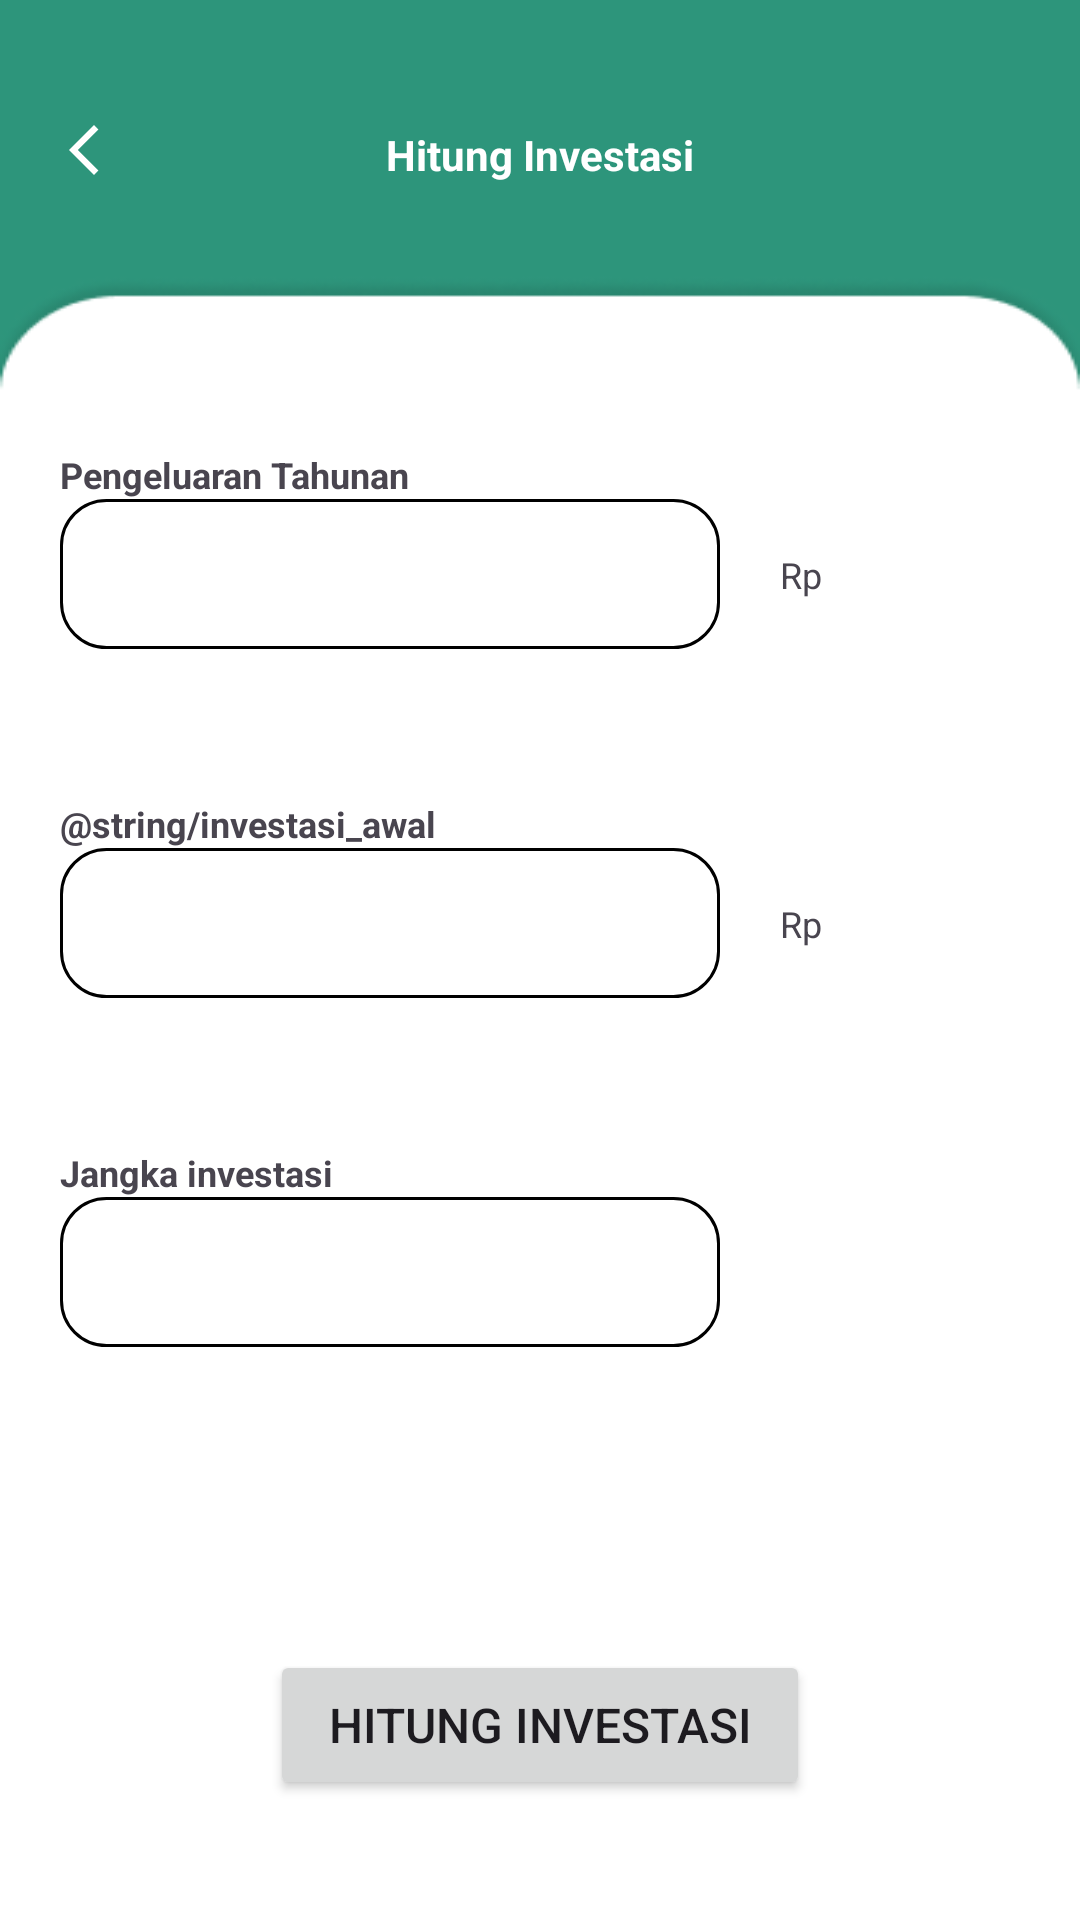

Icon bounding boxes for this 1080px x 1920px phone screenshot, format [x1=x1, y1=y1, x2=x2, y2=y2]:
arrow back: [x1=69, y1=125, x2=99, y2=175]
